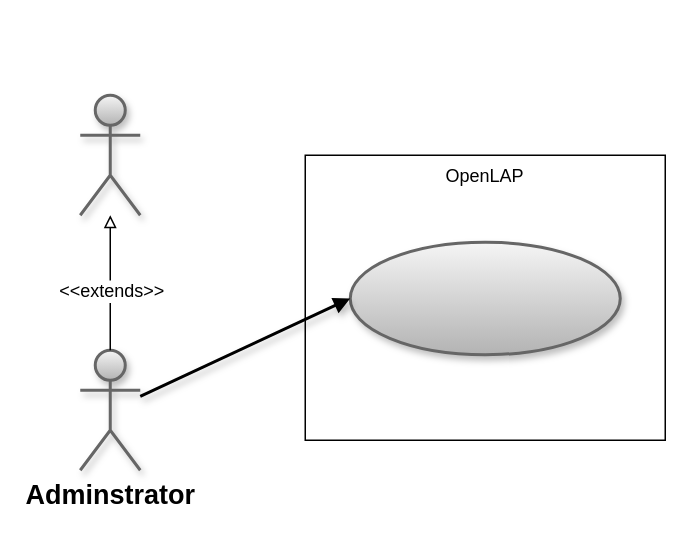
The diagram is 692 pixels wide and 539 high, and some of its shapes have lost their labels. The centre of each missing label's shape, as x and y in pixels:
Authorize Analytics Module: pixel 486 300
Developer/ Researcher: pixel 111 156
